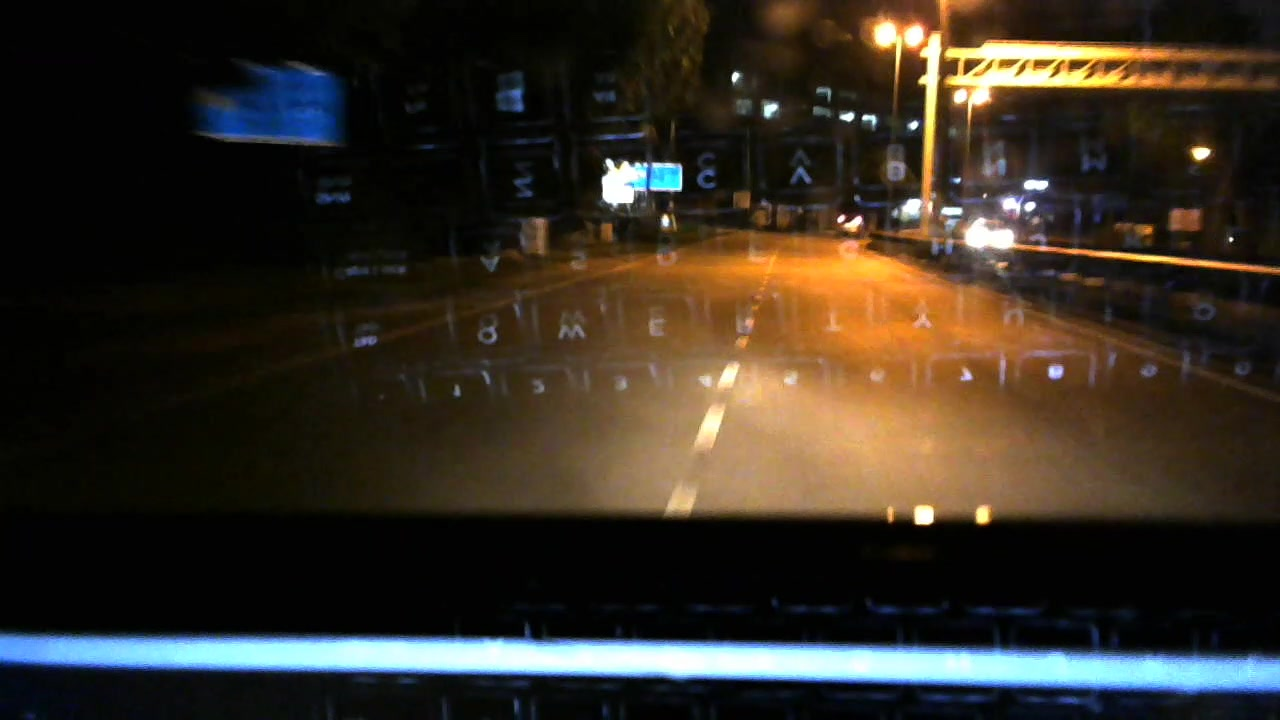Car: (828, 204, 866, 242)
